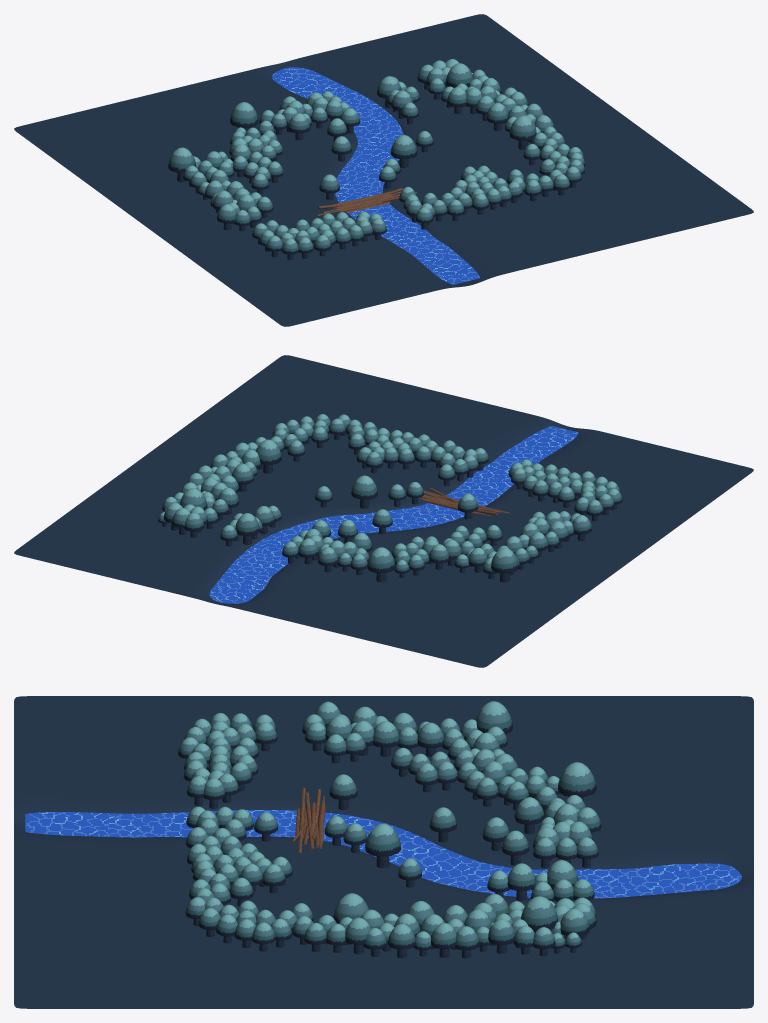
The model's file is Forest Area 2.glb.
3 renders of one model, top to bottom at view 1: azimuth 30°, elevation 25°; view 2: azimuth 150°, elevation 25°; view 3: azimuth 270°, elevation 25°, orthographic. The views are drawn at different scales.
Parts seen in each view (by area): view 1: Forest Area 2 Terrain, Water, Placeholder Tree.561, Placeholder Tree.603, Placeholder Tree.466, Placeholder Tree.447; view 2: Forest Area 2 Terrain, Water, Placeholder Tree.466, Placeholder Tree.447, Placeholder Tree.603, Placeholder Tree.561, Placeholder Tree.475; view 3: Forest Area 2 Terrain, Water, Placeholder Tree.603, Placeholder Tree.466, Placeholder Tree.581, Placeholder Tree.447, Placeholder Tree.465, Placeholder Tree.483, Placeholder Tree.561, Placeholder Tree.436, Placeholder Tree.445, Placeholder Tree.584 (+10 smaller).
Boxes of the visible parts, left/top/right/bottom form: Forest Area 2 Terrain: left=14, top=14, right=753, bottom=326; Water: left=271, top=67, right=479, bottom=284; Placeholder Tree.561: left=509, top=115, right=536, bottom=149; Placeholder Tree.603: left=390, top=135, right=417, bottom=167; Placeholder Tree.466: left=230, top=102, right=258, bottom=131; Placeholder Tree.447: left=168, top=147, right=195, bottom=182; Forest Area 2 Terrain: left=14, top=355, right=753, bottom=667; Water: left=209, top=426, right=578, bottom=603; Placeholder Tree.466: left=367, top=547, right=395, bottom=582; Placeholder Tree.447: left=491, top=547, right=518, bottom=582; Placeholder Tree.603: left=351, top=475, right=377, bottom=508; Placeholder Tree.561: left=256, top=439, right=281, bottom=473; Placeholder Tree.475: left=235, top=513, right=259, bottom=545; Forest Area 2 Terrain: left=14, top=696, right=753, bottom=1008; Water: left=25, top=810, right=741, bottom=898; Placeholder Tree.603: left=365, top=823, right=400, bottom=868; Placeholder Tree.466: left=558, top=762, right=596, bottom=801; Placeholder Tree.581: left=521, top=896, right=558, bottom=932; Placeholder Tree.447: left=476, top=701, right=512, bottom=734; Placeholder Tree.465: left=514, top=797, right=544, bottom=834; Placeholder Tree.483: left=507, top=863, right=535, bottom=900; Placeholder Tree.561: left=333, top=893, right=368, bottom=923; Placeholder Tree.436: left=373, top=721, right=399, bottom=756; Placeholder Tree.445: left=329, top=774, right=357, bottom=810; Placeholder Tree.584: left=488, top=919, right=515, bottom=953.
Bounding box in the file's own units: 100 × 9.12 × 100.
Materials: 5 (4 with a texture image).
